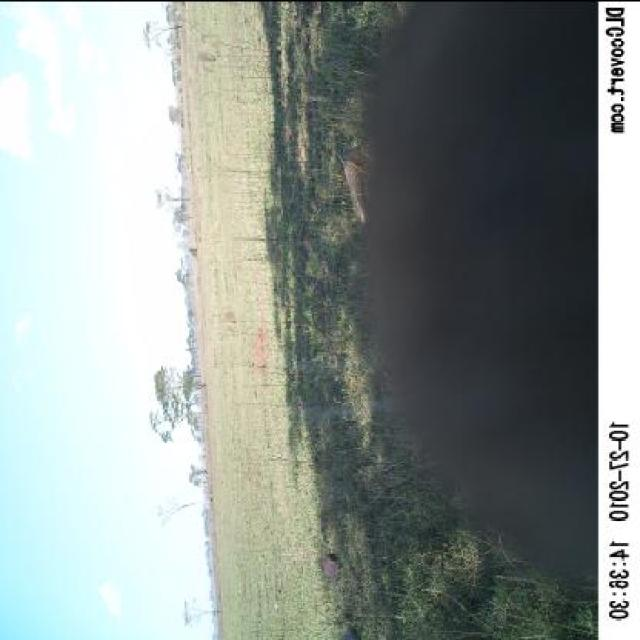Lion: (394, 57, 592, 414)
